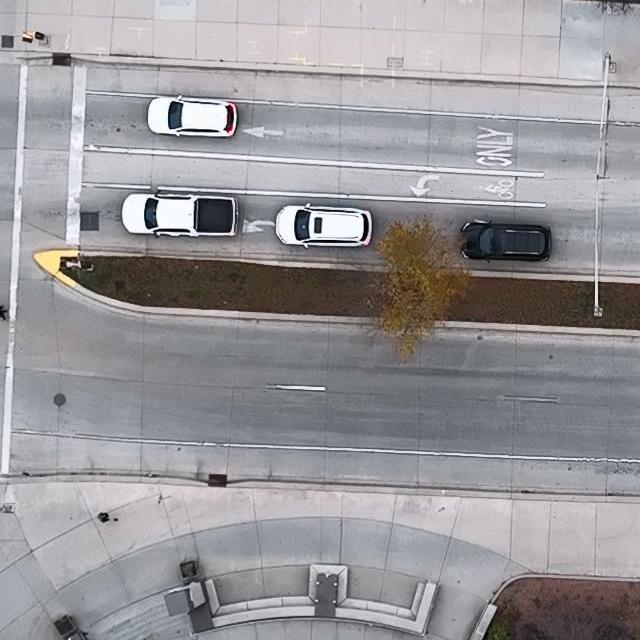car: (122, 190, 239, 238), (273, 201, 373, 249), (457, 219, 553, 263), (148, 93, 238, 138)
